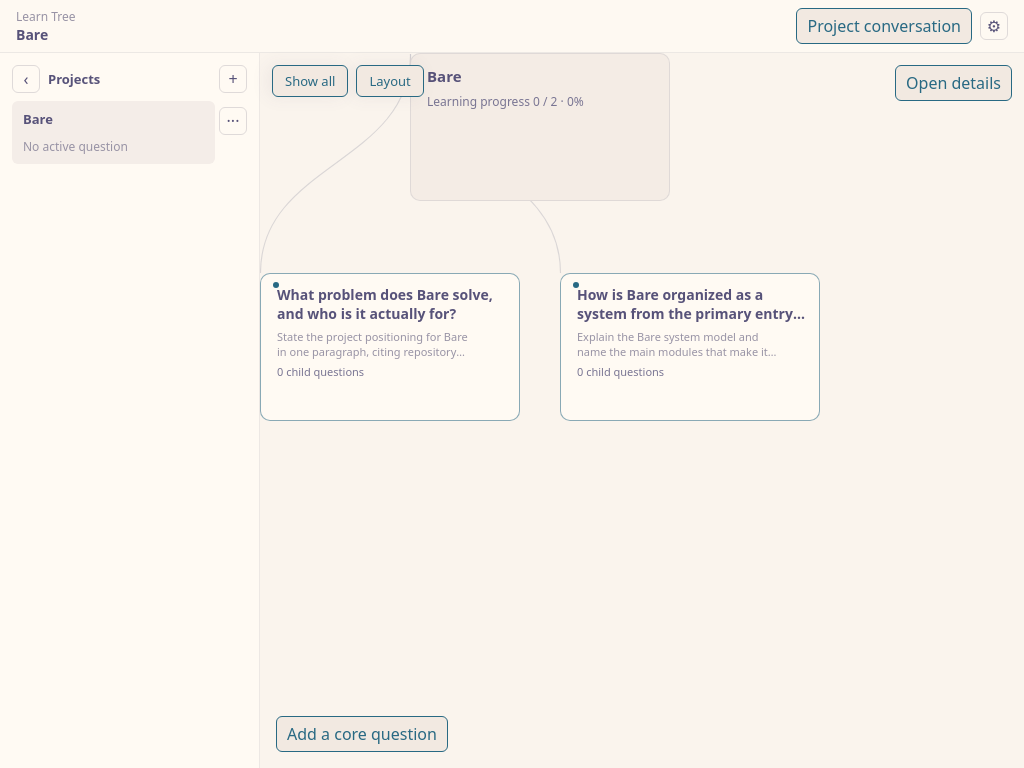
M3A contextual chat UI › opens project chat when there is no focused node
The image size is (1024, 768).
What coordinates should you click on to do the following:
click the button with test id "chat-open-header"
I would click on:
 (884, 26)
Its box is [796,8,972,44].
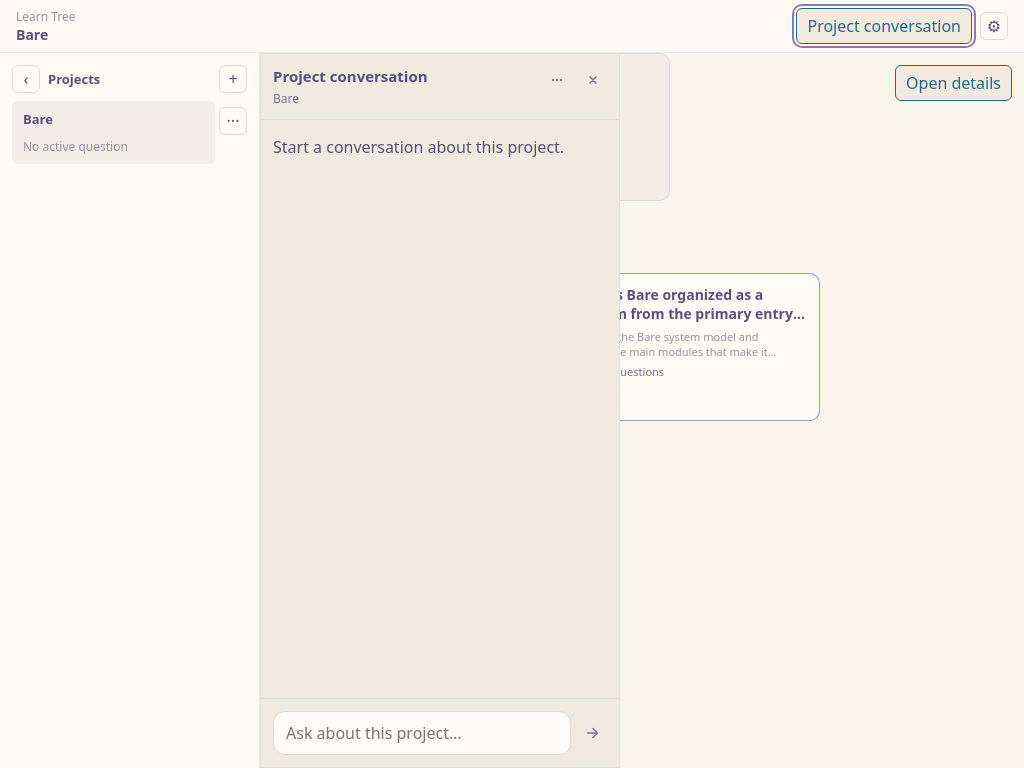
Result: the heading with test id "chat-title" reads "Project conversation" at [273,66,428,86]
